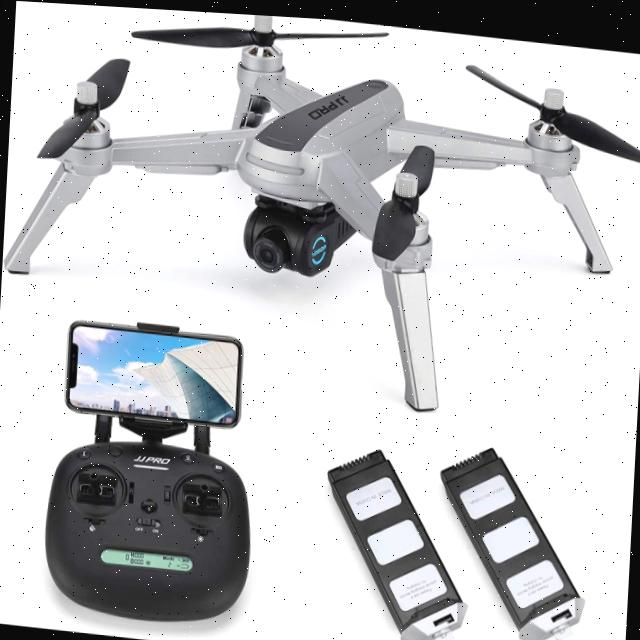drone: (0, 0, 640, 432)
